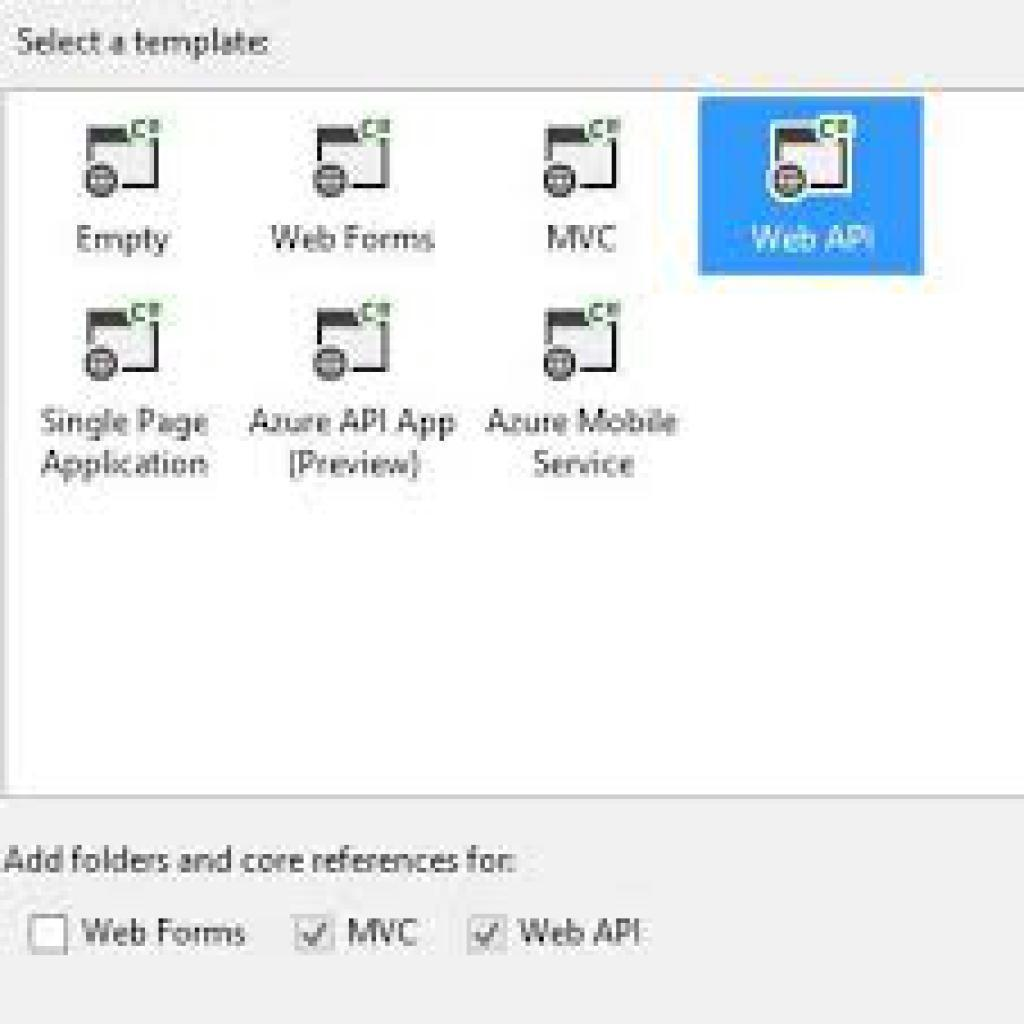checkbox: (295, 915, 335, 956), (29, 915, 70, 953), (466, 914, 506, 952)
